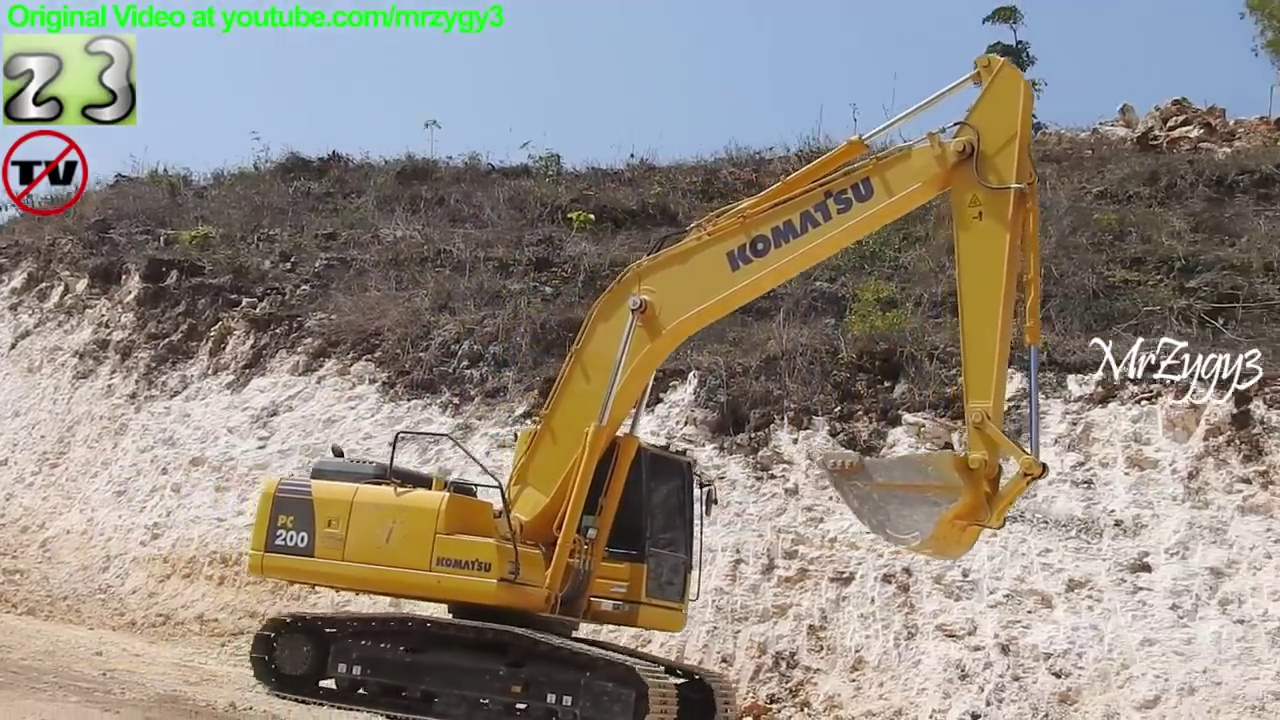excavator: (237, 55, 1054, 720)
